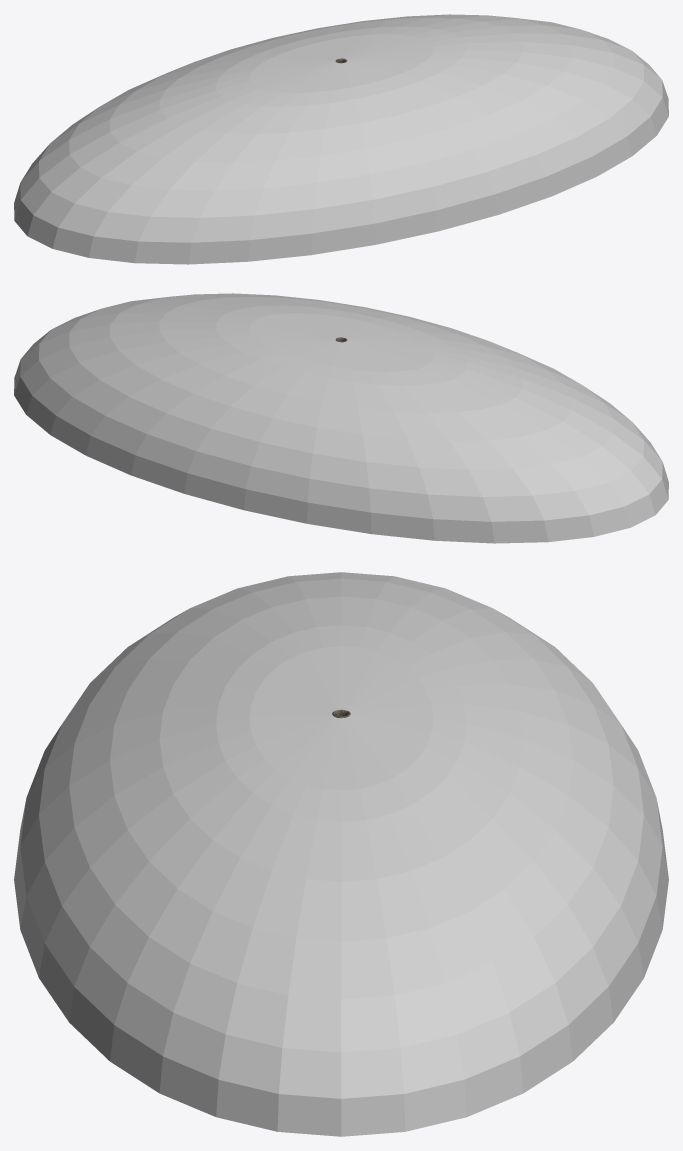
File: tunnels.fbx
3 views of the same model, one above another, from view 1: azimuth 30°, elevation 25°; view 2: azimuth 150°, elevation 25°; view 3: azimuth 270°, elevation 25° (orthographic). The views are drawn at different scales.
Visible parts, largest first — view 1: Sphere; view 2: Sphere; view 3: Sphere.
Part boxes in pixels (left/top/right/bottom): Sphere: left=14, top=14, right=668, bottom=264; Sphere: left=14, top=293, right=668, bottom=543; Sphere: left=14, top=572, right=668, bottom=1136.
Bounding box in the file's own units: 14985 × 2262 × 8070.
